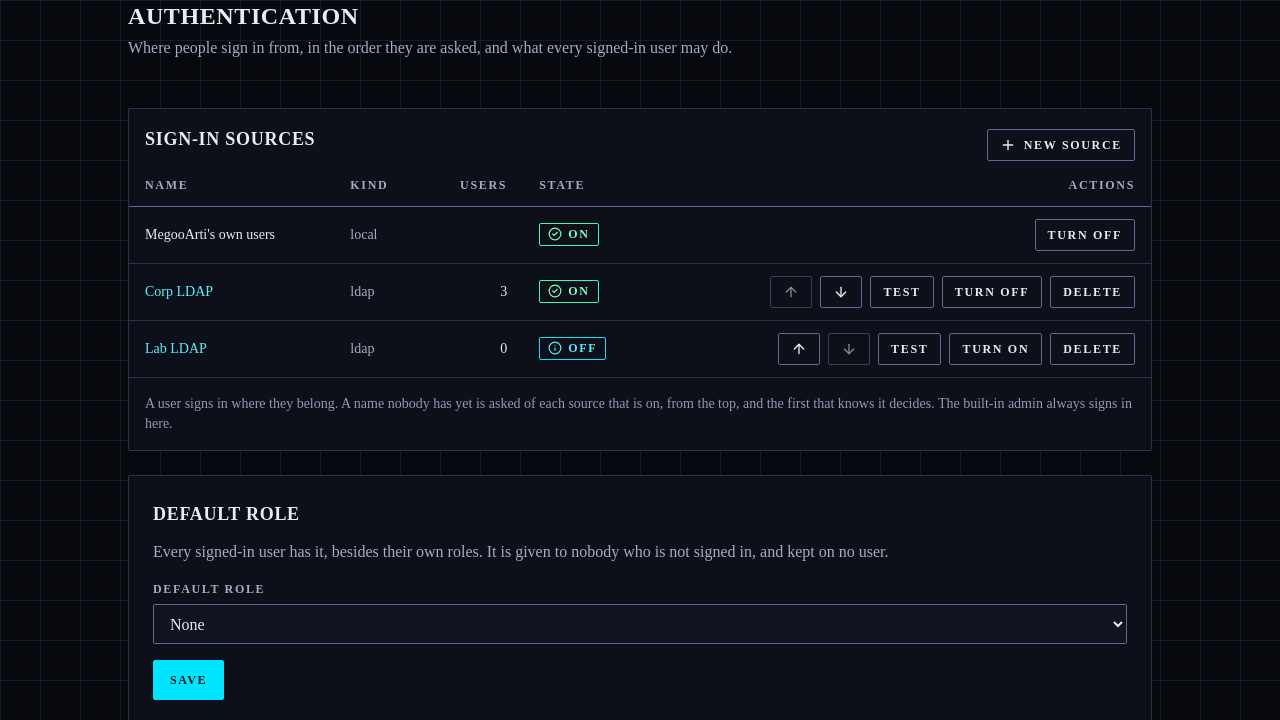
Test: MegooArti's own users (E1) › are turned off only after saying that only admin will sign in here
This screenshot has width=1280, height=720.
Click the button "Turn off" in the row of "MegooArti's own users".
click(1085, 235)  # box [1035,219,1135,251]
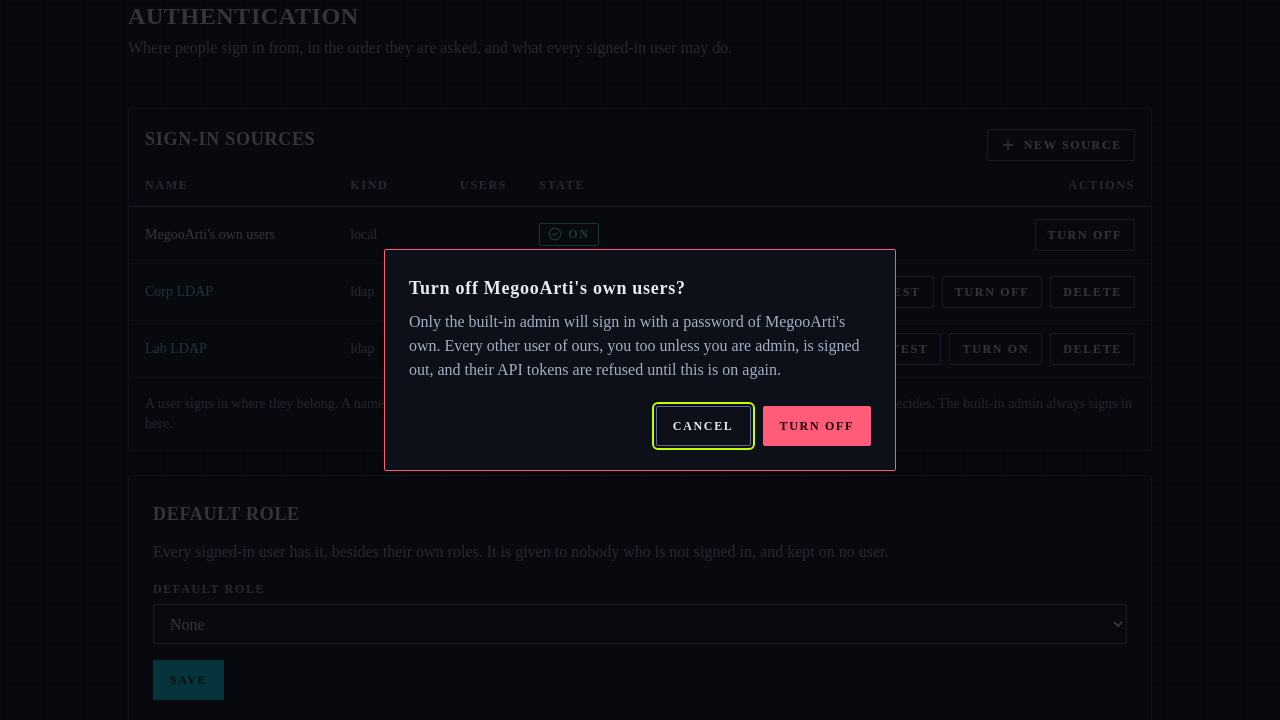
Check: the dialog "Turn off MegooArti's own users?" shows "Only the built-in admin will sign in", box [409,313,860,378]
Click the button "Turn off".
click(817, 426)  # box [763,406,871,446]
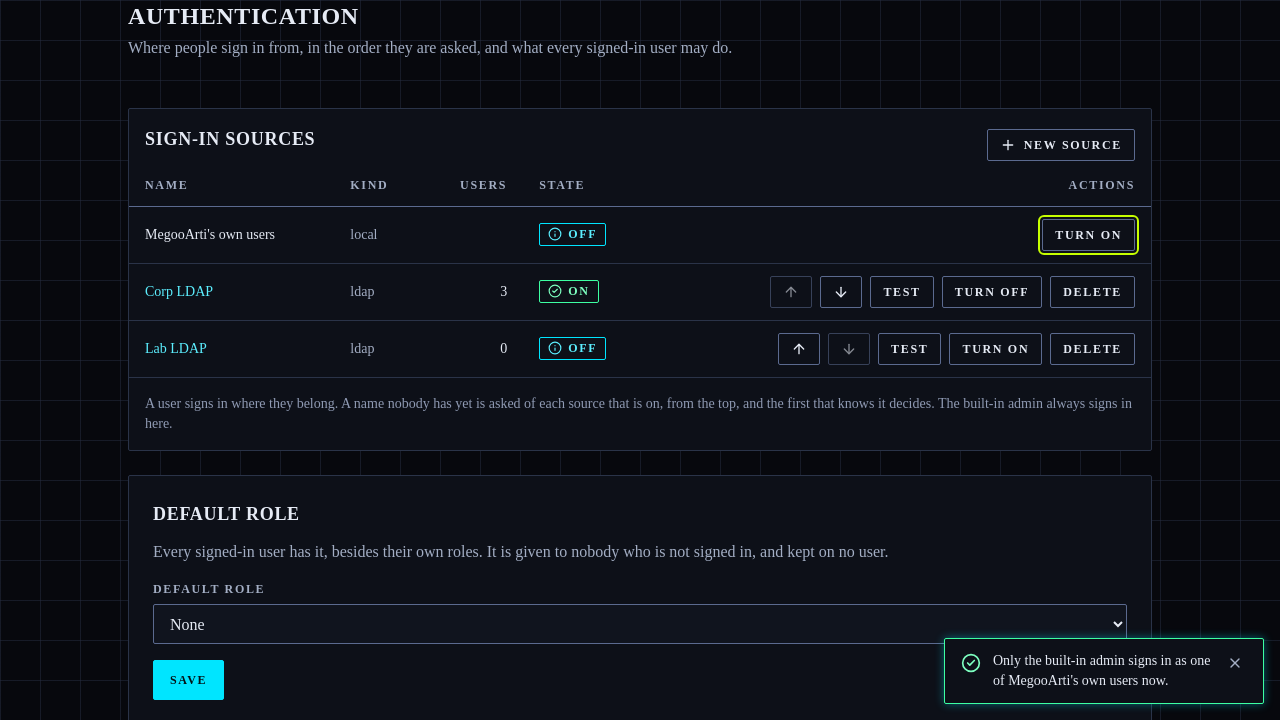
Check: the element named "Notifications" reads "Only the built-in admin signs in as one of MegooArti's own users now.", box [993,653,1210,688]
